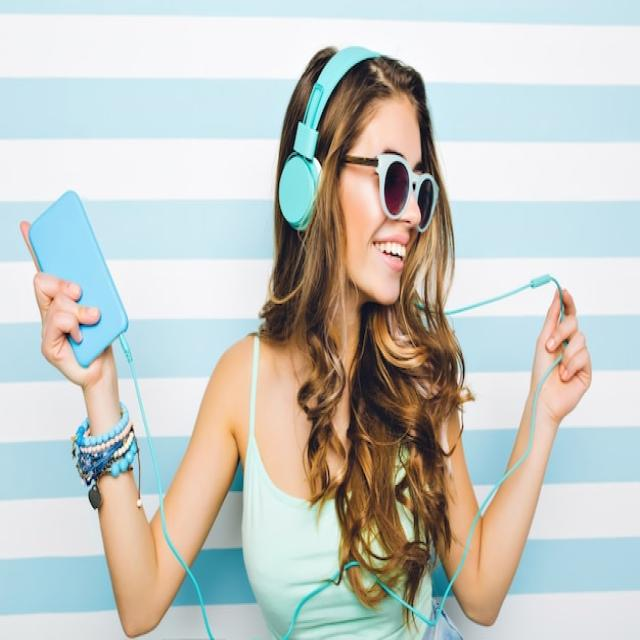Headphone: (278, 46, 381, 232)
